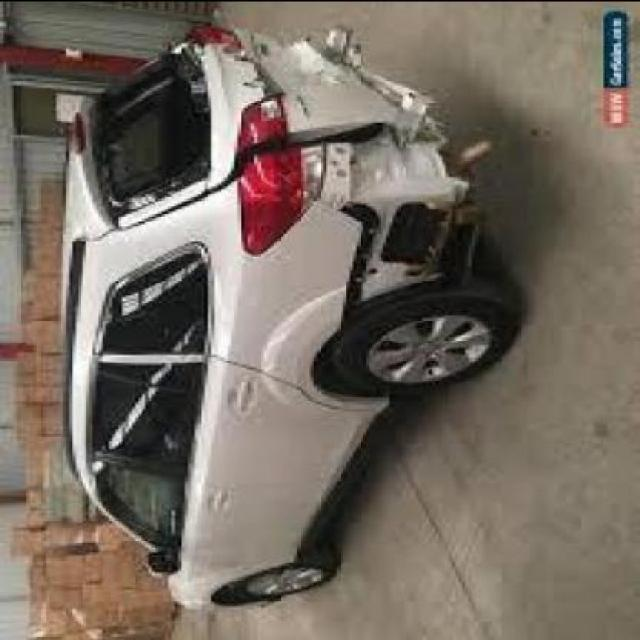damage: (207, 26, 476, 332)
